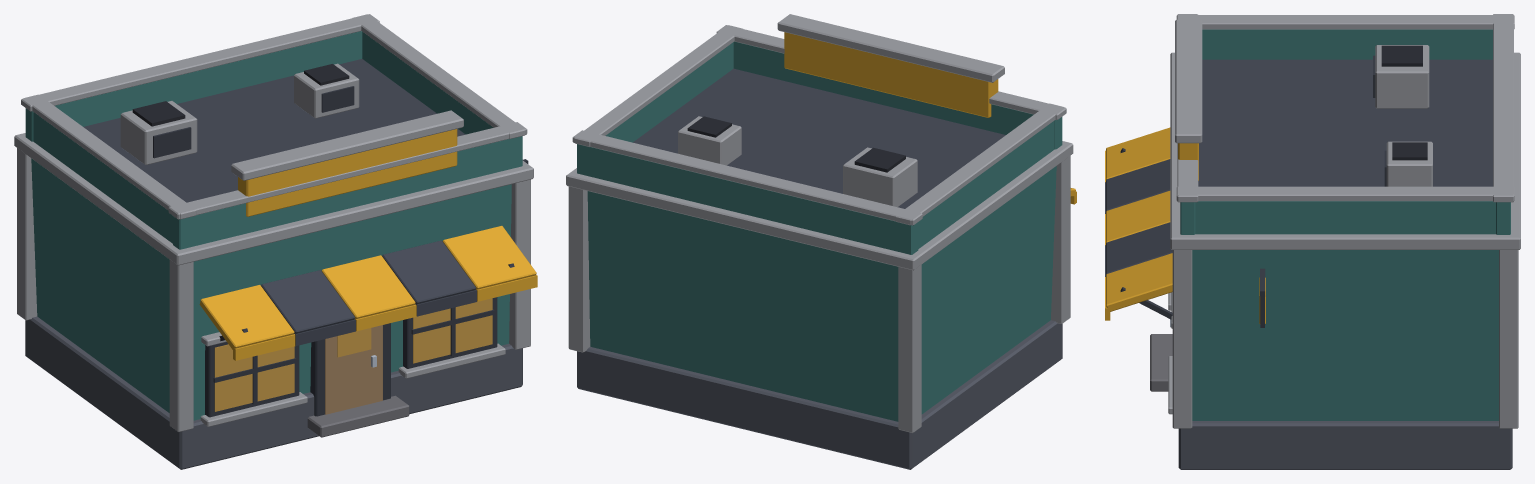
Rendered from Stylized_Apoc_House_04_Ruined_Corner_Shop.fbx.
The picture shows the model from 3 angles, left to right: view 1: azimuth 30°, elevation 25°; view 2: azimuth 150°, elevation 25°; view 3: azimuth 270°, elevation 25°; orthographic projection. The views are drawn at different scales.
Visible parts, largest first — view 1: Stylized_Apoc_House_04_Ruined_Corner_Shop; view 2: Stylized_Apoc_House_04_Ruined_Corner_Shop; view 3: Stylized_Apoc_House_04_Ruined_Corner_Shop.
Part boxes in pixels (x1,y1,x2,y2): Stylized_Apoc_House_04_Ruined_Corner_Shop: (14, 14, 537, 469); Stylized_Apoc_House_04_Ruined_Corner_Shop: (566, 14, 1076, 469); Stylized_Apoc_House_04_Ruined_Corner_Shop: (1105, 14, 1520, 469).
Bounding box in the file's own units: 6.42 × 4.45 × 5.51.
